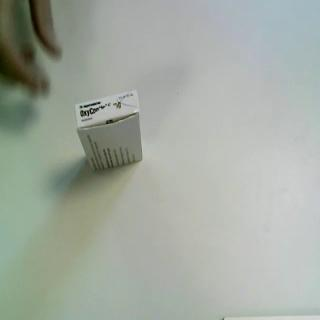oxycontin5mg: (74, 88, 145, 174)
